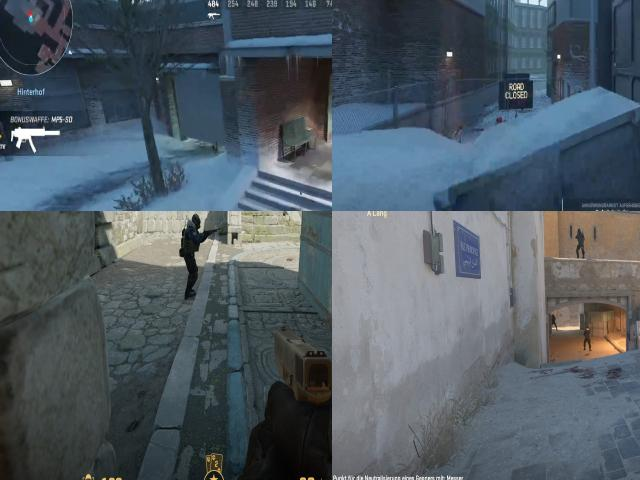CT: (174, 211, 211, 303), (577, 228, 584, 258), (584, 327, 590, 352), (551, 314, 558, 330)
CT-Head: (188, 213, 202, 235), (285, 253, 295, 265), (577, 228, 581, 233), (586, 328, 588, 330), (552, 314, 554, 316)
